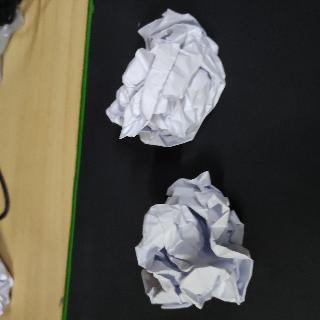8/可回收垃圾/纸: (133, 169, 255, 312), (104, 7, 226, 148)
